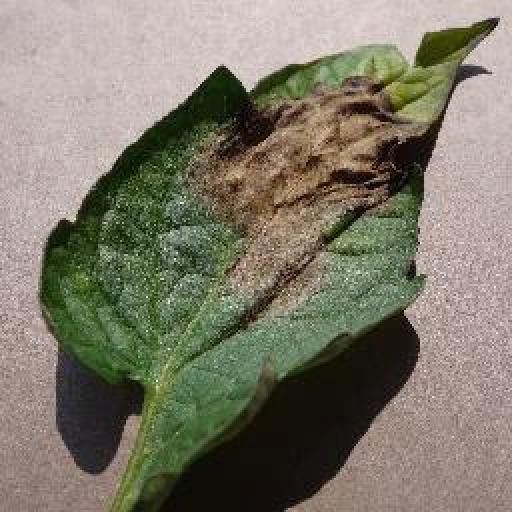disease_tomato: (34, 18, 498, 512)
